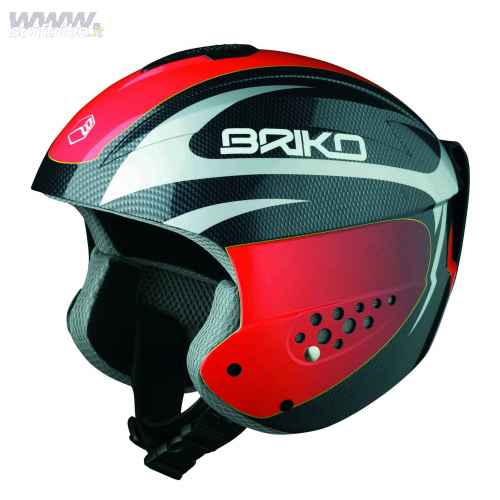helmet: (60, 46, 451, 407)
